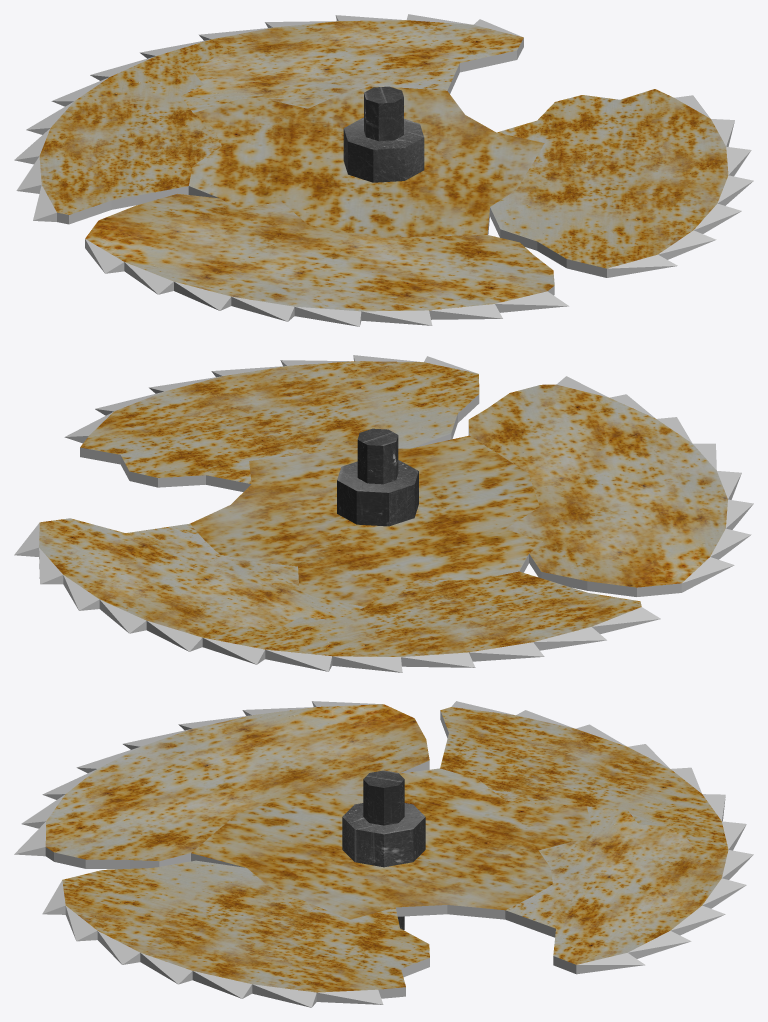
File: brokensawpieces.fbx
3 views of the same model, one above another, from view 1: azimuth 30°, elevation 25°; view 2: azimuth 150°, elevation 25°; view 3: azimuth 270°, elevation 25° (orthographic).
Parts seen in each view (by area): view 1: brokensawpieces.005, brokensawpieces.006, brokensawpieces.007, brokensawpieces.004, brokensawpieces.003, brokensawpieces.002; view 2: brokensawpieces.005, brokensawpieces.007, brokensawpieces.006, brokensawpieces.004, brokensawpieces.003, brokensawpieces.002; view 3: brokensawpieces.005, brokensawpieces.006, brokensawpieces.007, brokensawpieces.003, brokensawpieces.004, brokensawpieces.002.
Boxes of the visible parts, x1=… form: brokensawpieces.005: x1=85, y1=193, x2=568, y2=326; brokensawpieces.006: x1=490, y1=89, x2=753, y2=277; brokensawpieces.007: x1=188, y1=86, x2=544, y2=237; brokensawpieces.004: x1=14, y1=39, x2=228, y2=224; brokensawpieces.003: x1=181, y1=14, x2=523, y2=112; brokensawpieces.002: x1=343, y1=86, x2=424, y2=182; brokensawpieces.005: x1=468, y1=376, x2=753, y2=596; brokensawpieces.007: x1=190, y1=435, x2=542, y2=606; brokensawpieces.006: x1=64, y1=355, x2=479, y2=491; brokensawpieces.004: x1=202, y1=571, x2=660, y2=672; brokensawpieces.003: x1=14, y1=518, x2=364, y2=651; brokensawpieces.002: x1=337, y1=428, x2=418, y2=526; brokensawpieces.005: x1=14, y1=701, x2=429, y2=869; brokensawpieces.006: x1=42, y1=860, x2=429, y2=1007; brokensawpieces.007: x1=191, y1=768, x2=592, y2=919; brokensawpieces.003: x1=505, y1=806, x2=753, y2=974; brokensawpieces.004: x1=440, y1=701, x2=746, y2=850; brokensawpieces.002: x1=342, y1=770, x2=425, y2=864.
Size of the model in its own units: 140 by 32 by 143.
